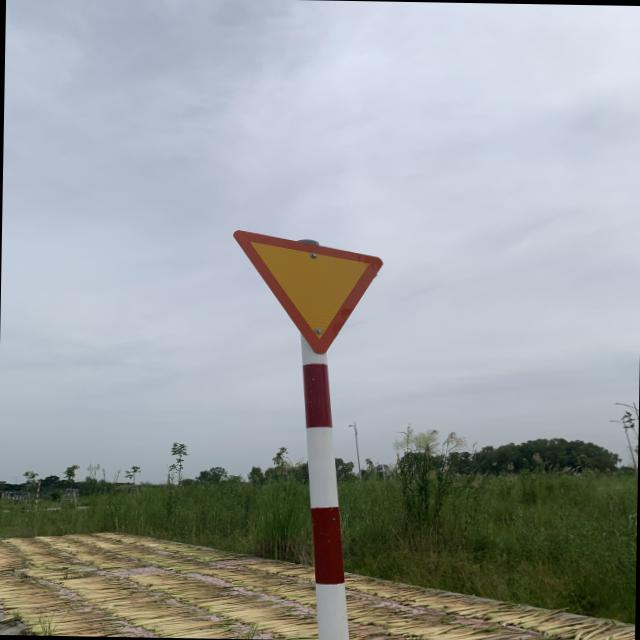Gioi_Han_Toc_Do_25: (228, 229, 384, 356)
